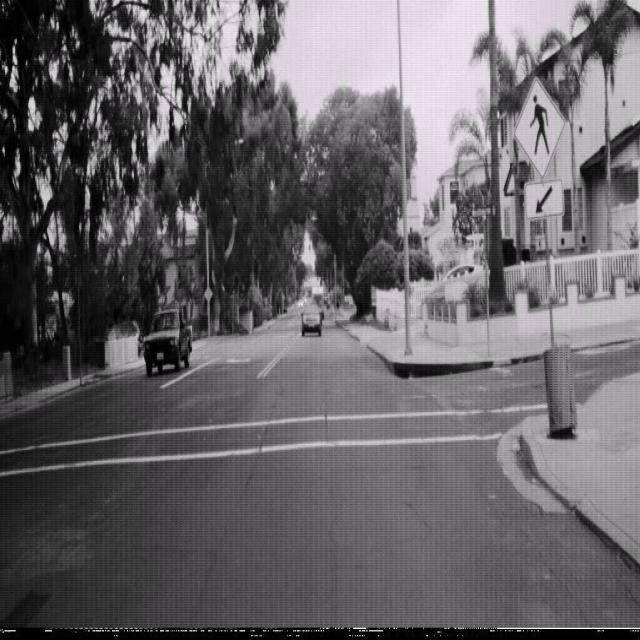pedestrianCrossing: (513, 76, 566, 179)
